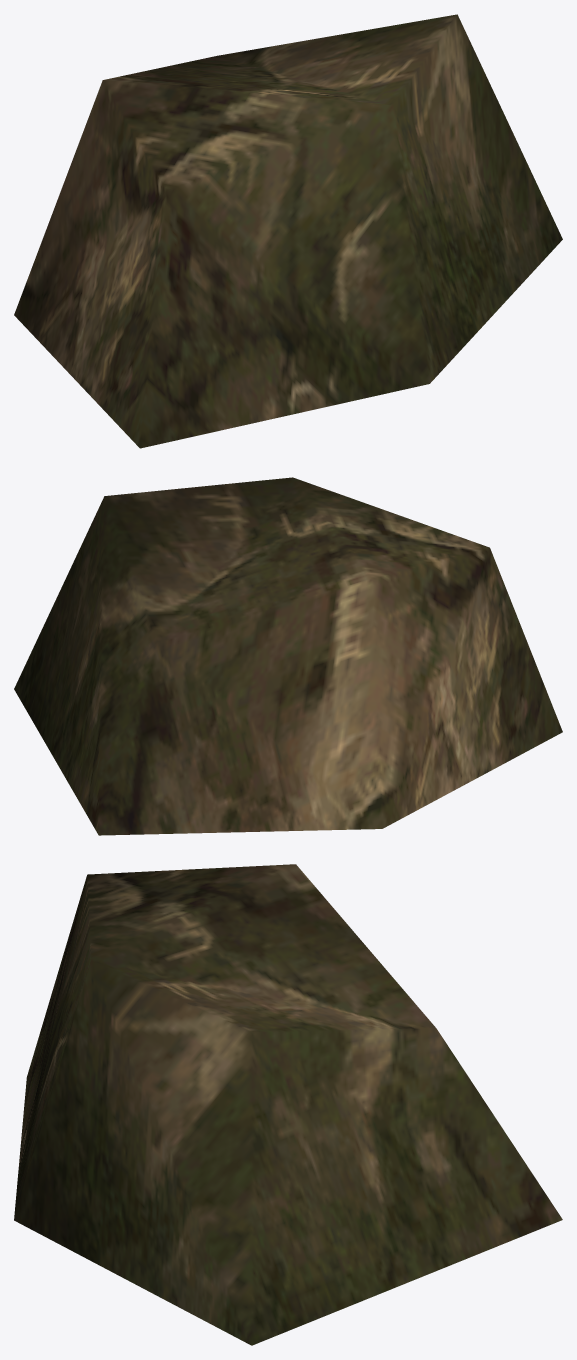
Rendered from zshh_shitou_07.FBX.
3 views of the same model, one above another, from view 1: azimuth 30°, elevation 25°; view 2: azimuth 150°, elevation 25°; view 3: azimuth 270°, elevation 25° (orthographic). The views are drawn at different scales.
Parts seen in each view (by area): view 1: zshh_shitou_07; view 2: zshh_shitou_07; view 3: zshh_shitou_07.
Part boxes in pixels (box(x1,y1,x2,y2)): zshh_shitou_07: box(14, 14, 562, 448); zshh_shitou_07: box(14, 477, 562, 835); zshh_shitou_07: box(14, 864, 562, 1345).
Bounding box in the file's own units: 105 × 90.57 × 47.28.
